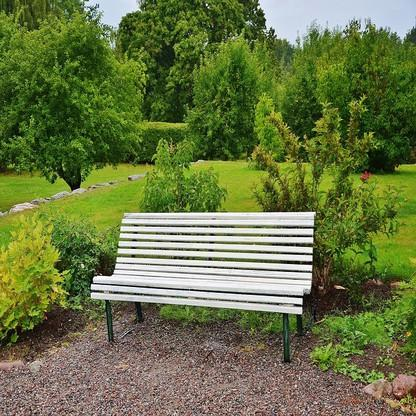obstacle: (89, 205, 326, 375)
